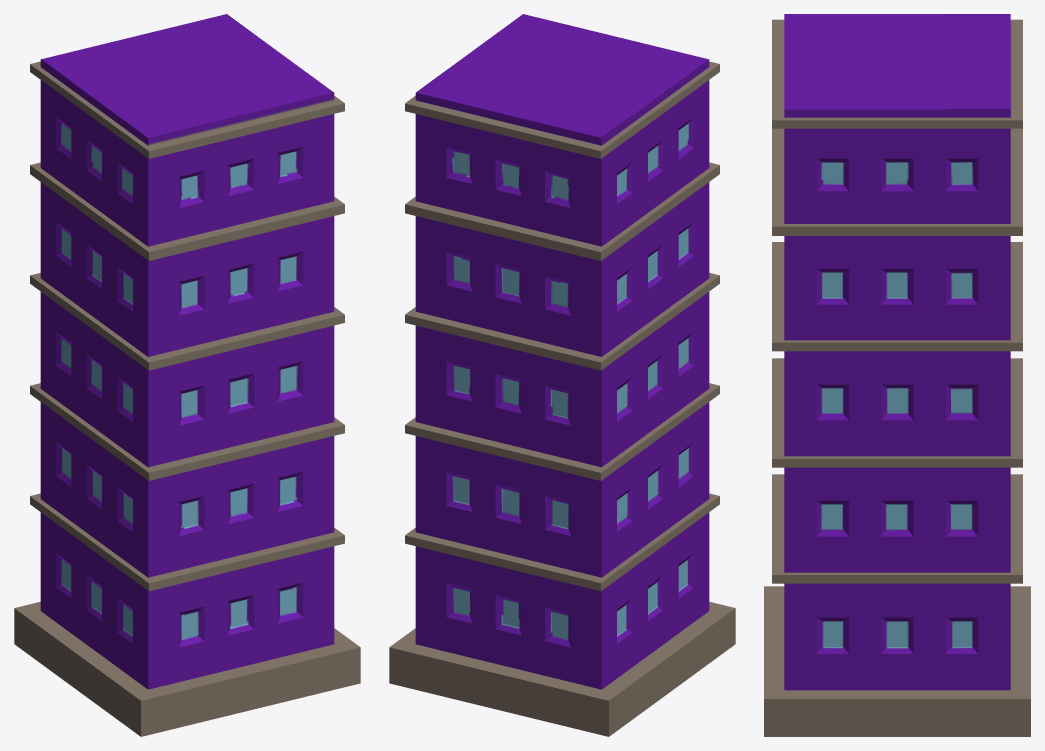
The model's file is fbCityHomeLong.fbx.
3 views of the same model, side by side, from view 1: azimuth 30°, elevation 25°; view 2: azimuth 150°, elevation 25°; view 3: azimuth 270°, elevation 25° (orthographic). The views are drawn at different scales.
Parts seen in each view (by area): view 1: Cube; view 2: Cube; view 3: Cube.
Part boxes in pixels (left/top/right/bottom): Cube: left=14, top=14, right=360, bottom=736; Cube: left=389, top=14, right=735, bottom=736; Cube: left=764, top=14, right=1030, bottom=736.
Size of the model in its own units: 394 by 1009 by 394.
